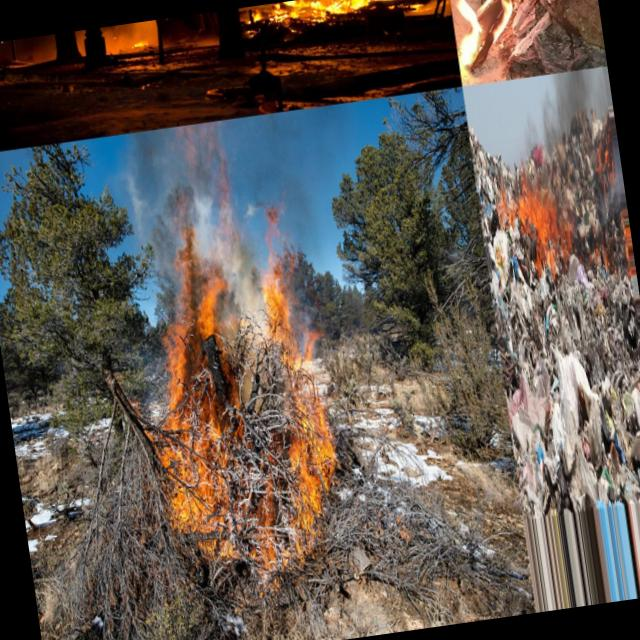fire: (142, 291, 250, 540), (277, 392, 356, 560), (258, 269, 325, 376), (211, 526, 301, 602), (516, 191, 580, 283), (271, 0, 437, 32), (449, 0, 491, 72), (258, 198, 296, 274), (476, 0, 518, 38), (494, 184, 518, 240), (591, 233, 614, 286), (491, 237, 510, 294)
smoke: (120, 119, 253, 300), (232, 104, 358, 222), (511, 68, 618, 192), (218, 286, 276, 408), (105, 20, 160, 56)
